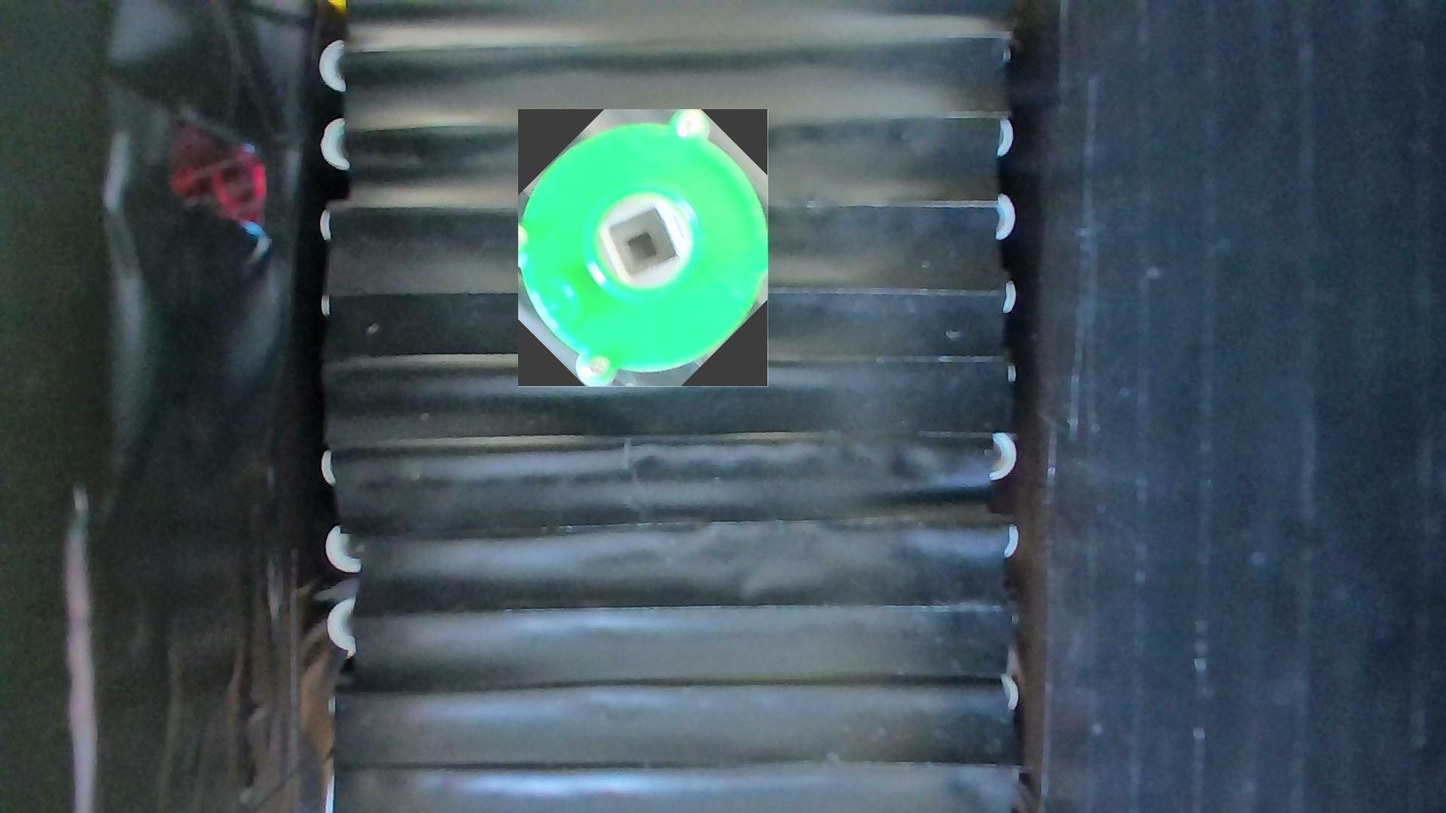cartridge: (519, 110, 769, 388)
